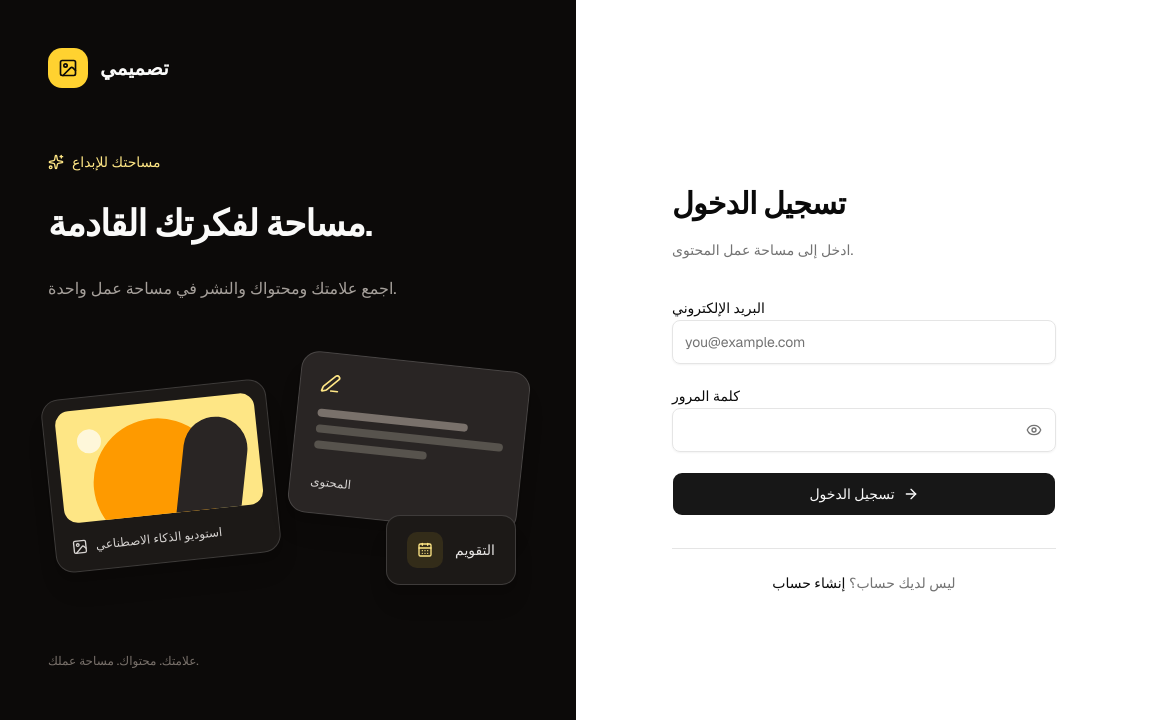
Test: auth page behavior › uses accessible password controls and authored failures in ar
Type "person@example.com" into the field labelled "البريد الإلكتروني". click: (864, 342)
box: [672,320,1056,364]
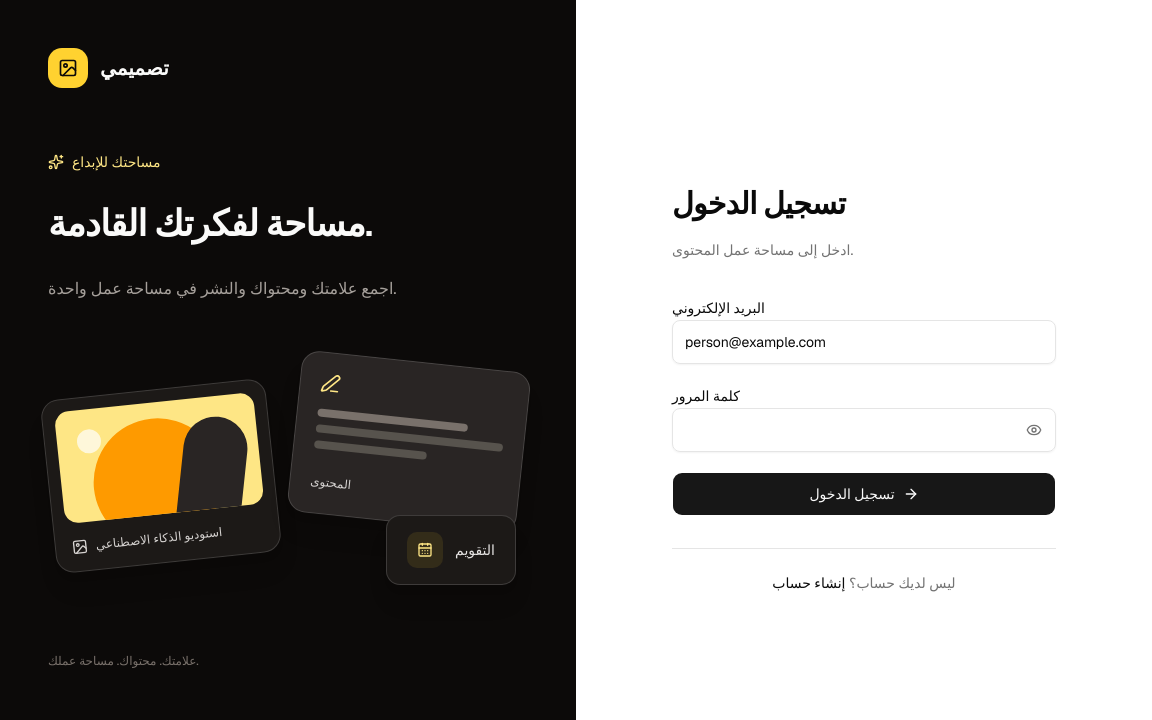
Type "a-test-password" into the password field labelled "كلمة المرور". click: (864, 430)
box: [672,408,1056,452]
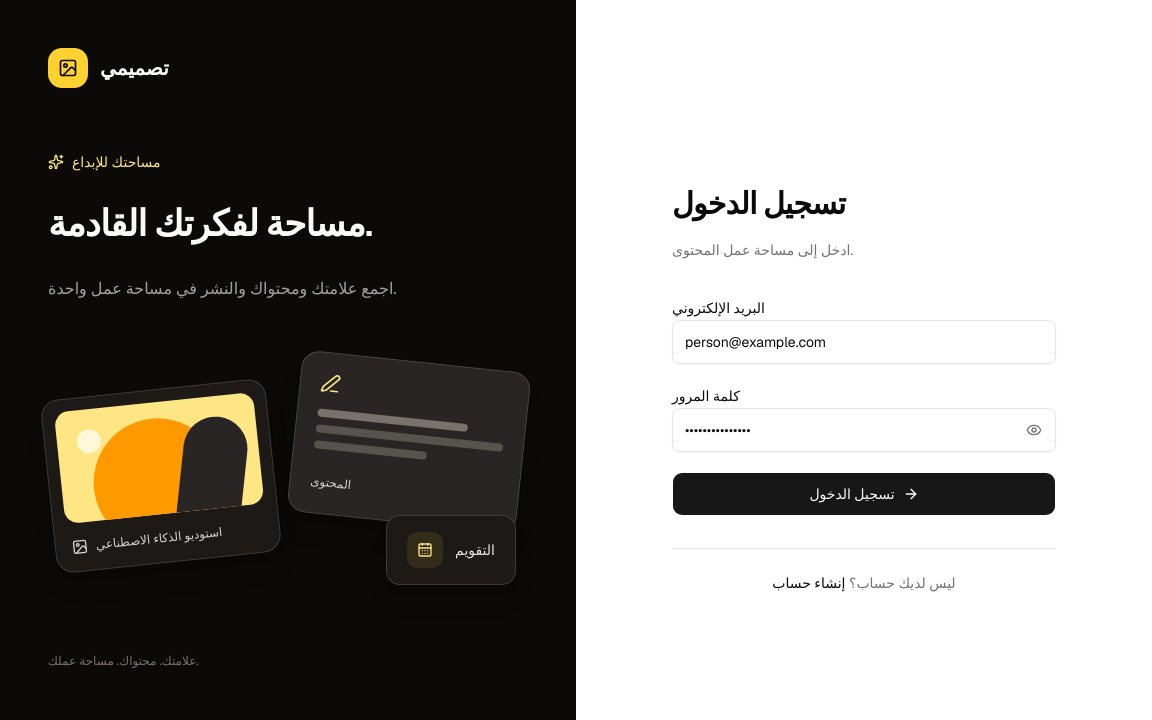
Click the button named "إظهار كلمة المرور". click: (1034, 430)
box: [1018,414,1050,446]
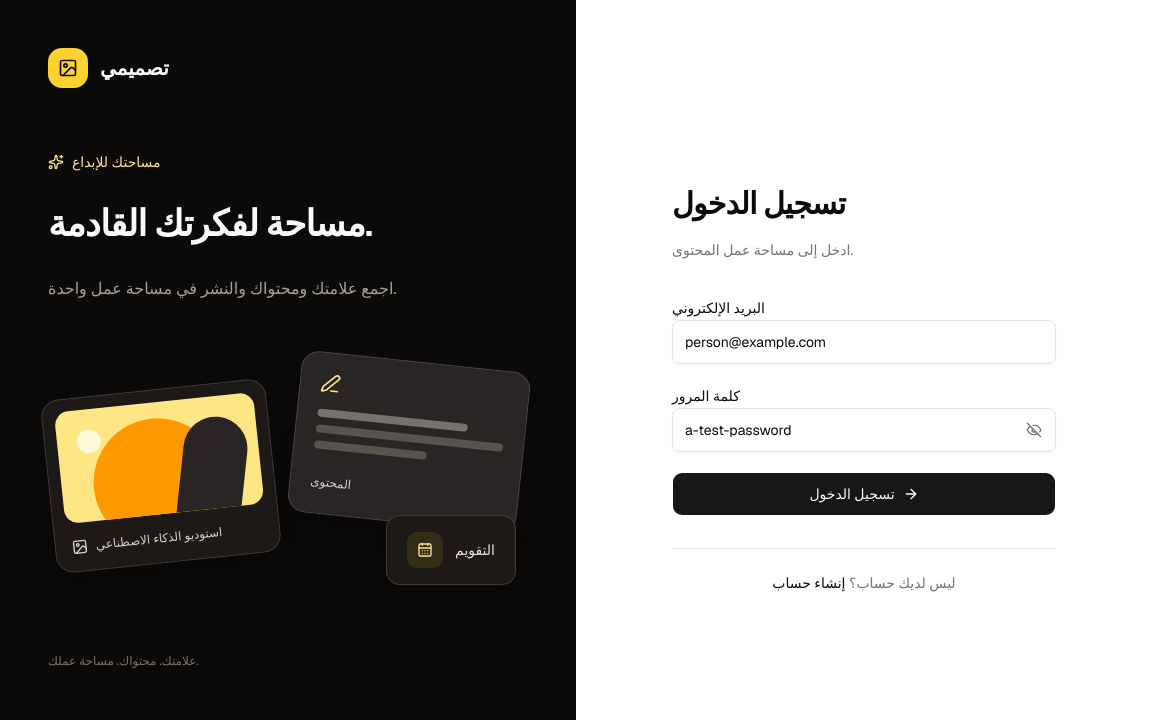
Expected: the field labelled "كلمة المرور" shows its text, [672,408,1056,452]
Click the button named "إخفاء كلمة المرور". click: (1034, 430)
box: [1018,414,1050,446]
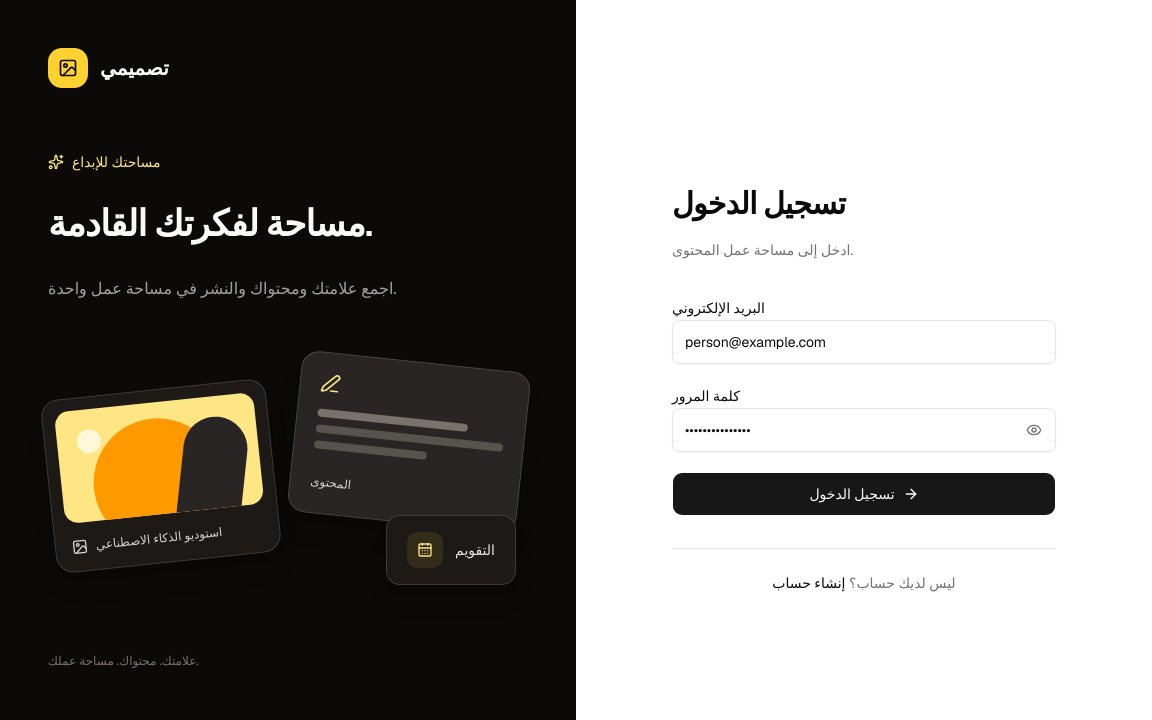
Expected: the password field labelled "كلمة المرور" hides its text, [672,408,1056,452]
Click the button "تسجيل الدخول". click: (864, 494)
box: [672,472,1056,516]
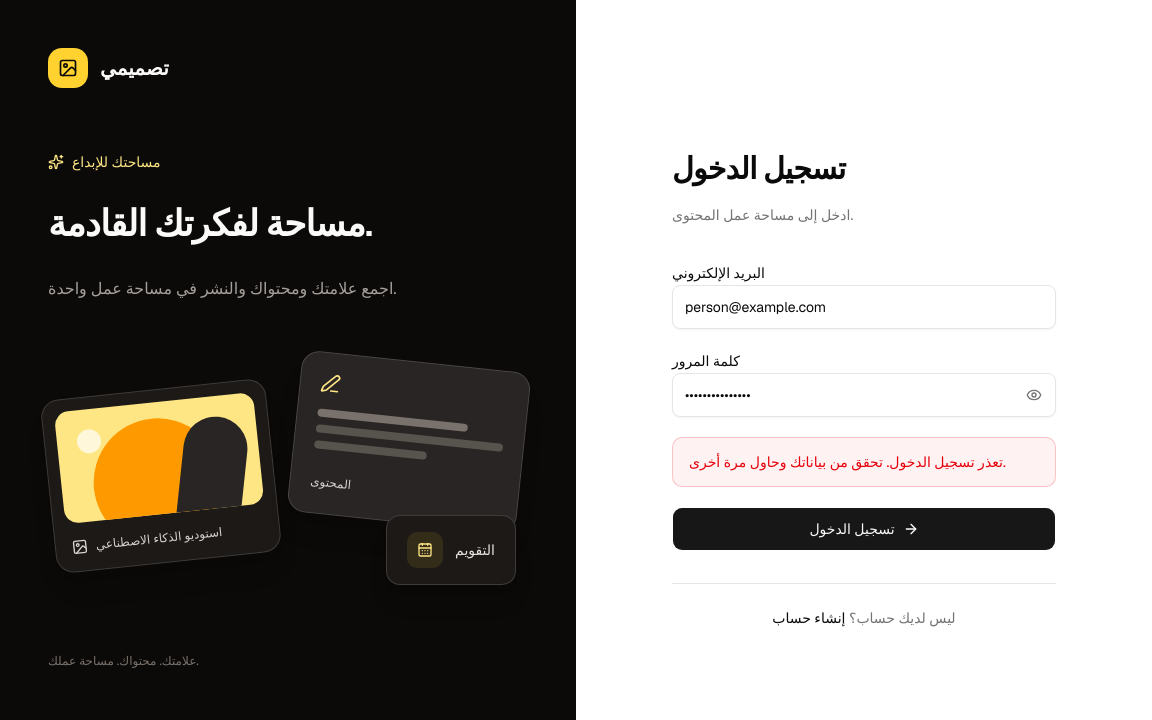
Expected: the message reads "تعذر تسجيل الدخول. تحقق من بياناتك وحاول مرة أخرى.", [689,453,1006,471]
